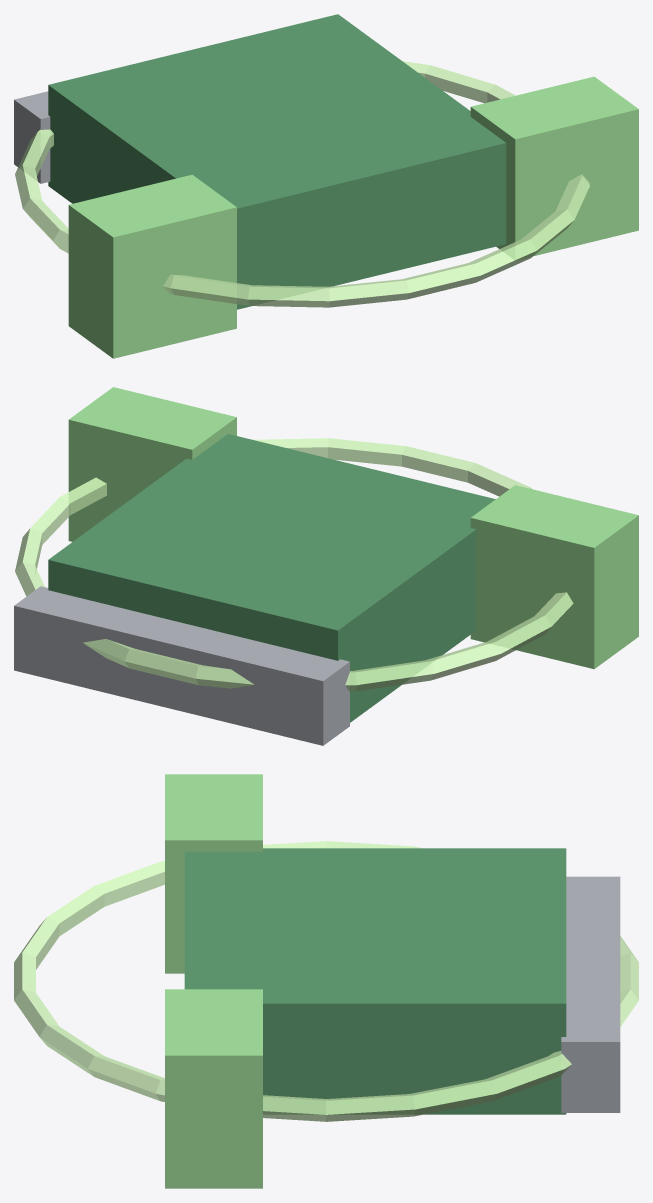
The model's file is 04_magic_armor_upgrade.glb.
3 views of the same model, one above another, from view 1: azimuth 30°, elevation 25°; view 2: azimuth 150°, elevation 25°; view 3: azimuth 270°, elevation 25° (orthographic). The views are drawn at different scales.
Parts seen in each view (by area): view 1: chest_plate, pauldron_l, pauldron_r, warding_aura, waist_guard; view 2: chest_plate, waist_guard, pauldron_l, warding_aura, pauldron_r; view 3: chest_plate, pauldron_r, warding_aura, waist_guard, pauldron_l.
Part boxes in pixels (x1,y1,x2,y2): chest_plate: (48, 14, 506, 309); pauldron_l: (68, 174, 236, 358); pauldron_r: (470, 76, 638, 259); warding_aura: (15, 61, 589, 307); waist_guard: (14, 91, 50, 183); chest_plate: (48, 434, 495, 722); waist_guard: (14, 586, 349, 745); pauldron_l: (470, 485, 638, 669); warding_aura: (15, 438, 573, 691); pauldron_r: (68, 387, 236, 541); chest_plate: (184, 848, 566, 1114); pauldron_r: (165, 989, 262, 1188); warding_aura: (14, 841, 638, 1121); waist_guard: (561, 876, 620, 1112); pauldron_l: (165, 774, 262, 973).
Bounding box in the file's own units: 1.36 × 0.38 × 1.28.
